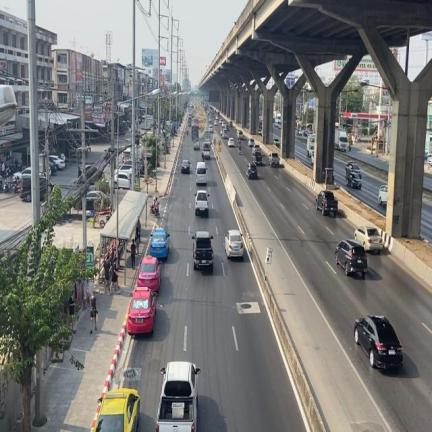car: (355, 315, 402, 368), (336, 240, 367, 277), (354, 226, 383, 252), (316, 190, 338, 217), (225, 230, 244, 259), (195, 190, 209, 217), (346, 172, 360, 188)
human: (90, 293, 97, 333), (130, 240, 136, 268)
motorbike: (151, 207, 158, 218)
pickup: (192, 232, 213, 271)
taxi: (94, 388, 139, 431), (126, 287, 156, 333), (137, 255, 161, 291), (148, 228, 169, 257)
truck: (156, 361, 199, 431), (334, 129, 347, 151)
van: (196, 161, 206, 184)
